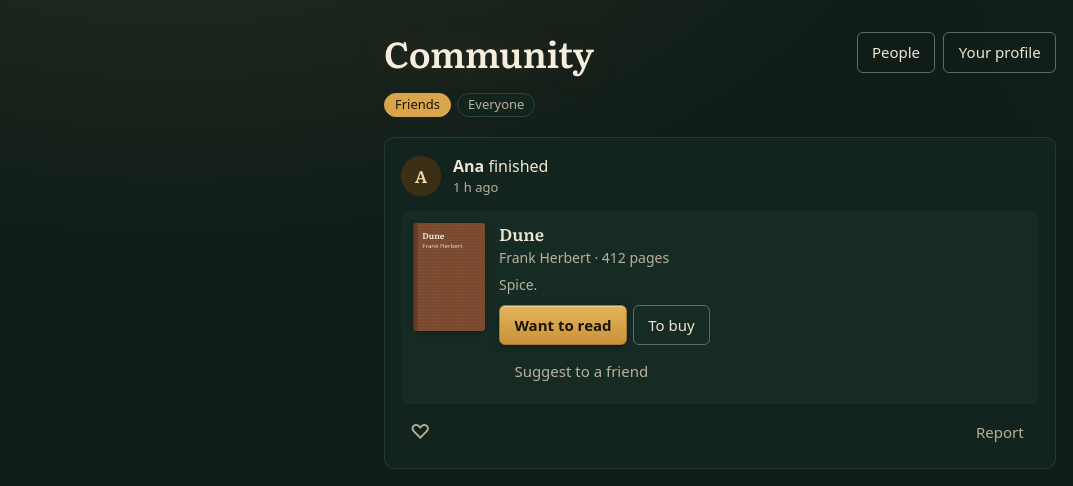
Test: the feed › aLikeShowsAtOnce
The width and height of the screenshot is (1073, 486).
Click the button named "Like Ana" at [420, 432], box [401,417,440,447]
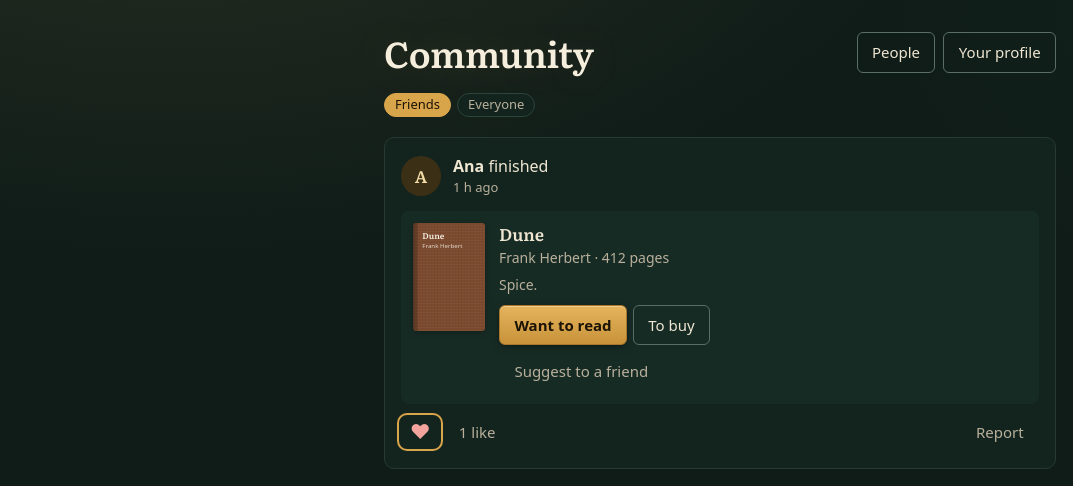
Now the button "1 like" is shown, box [444,412,511,452]
